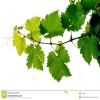grape leaf: (46, 41, 73, 82), (38, 9, 66, 41), (76, 33, 100, 66), (60, 3, 85, 32), (25, 44, 45, 73), (24, 16, 42, 44), (10, 32, 27, 57)
